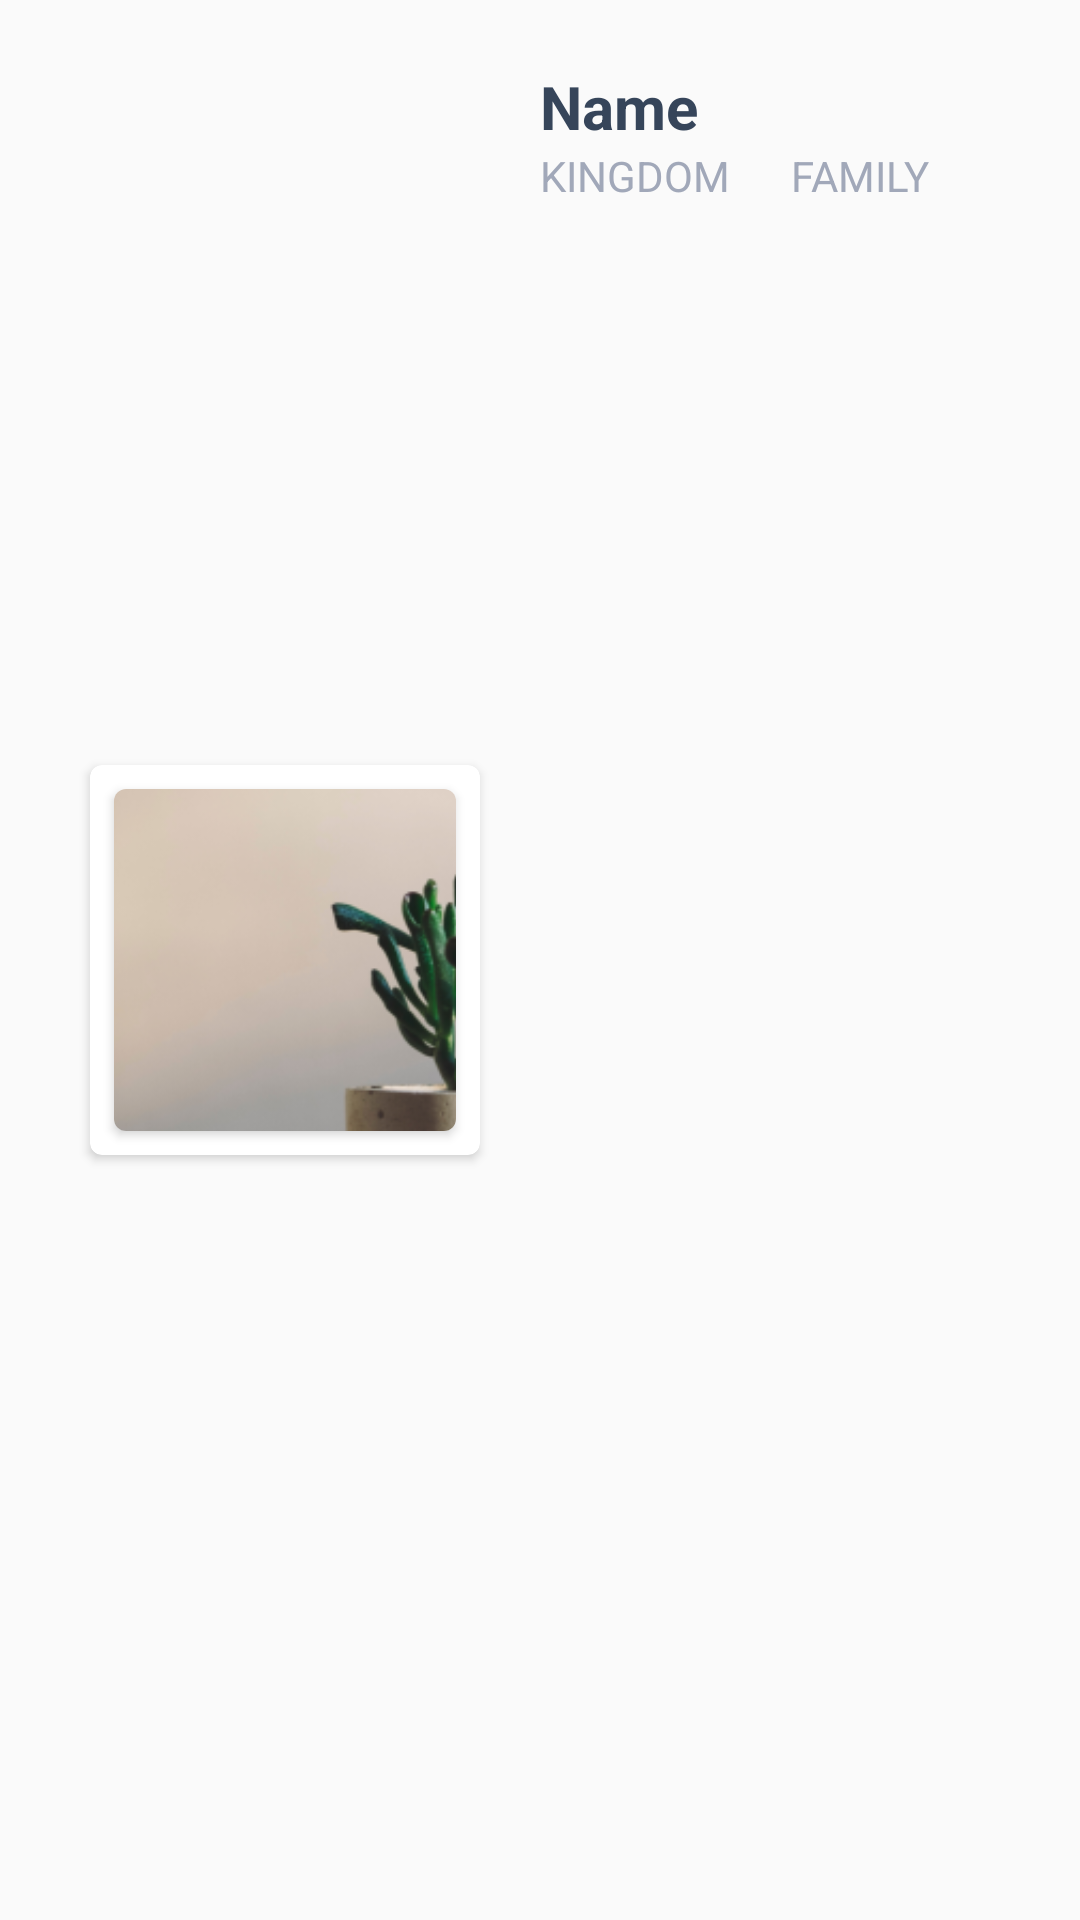

Screen size 1080 × 1920. Icon name, then its center in pixels as (x=x, y=y):
home plants: (x=285, y=960)
